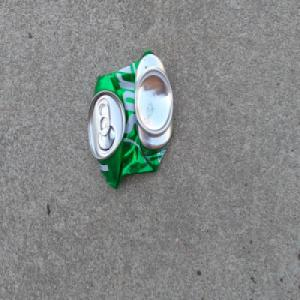SodaCan: (86, 47, 174, 190)
